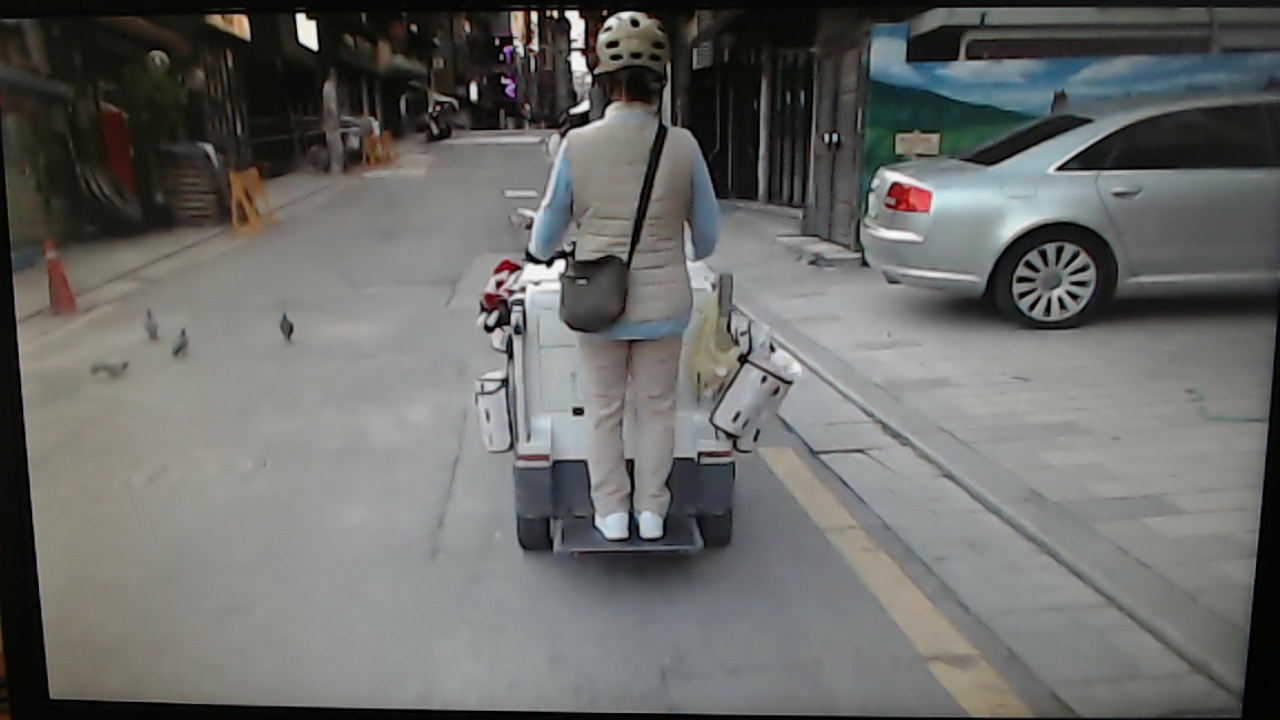Yakurut: (528, 16, 737, 557)
